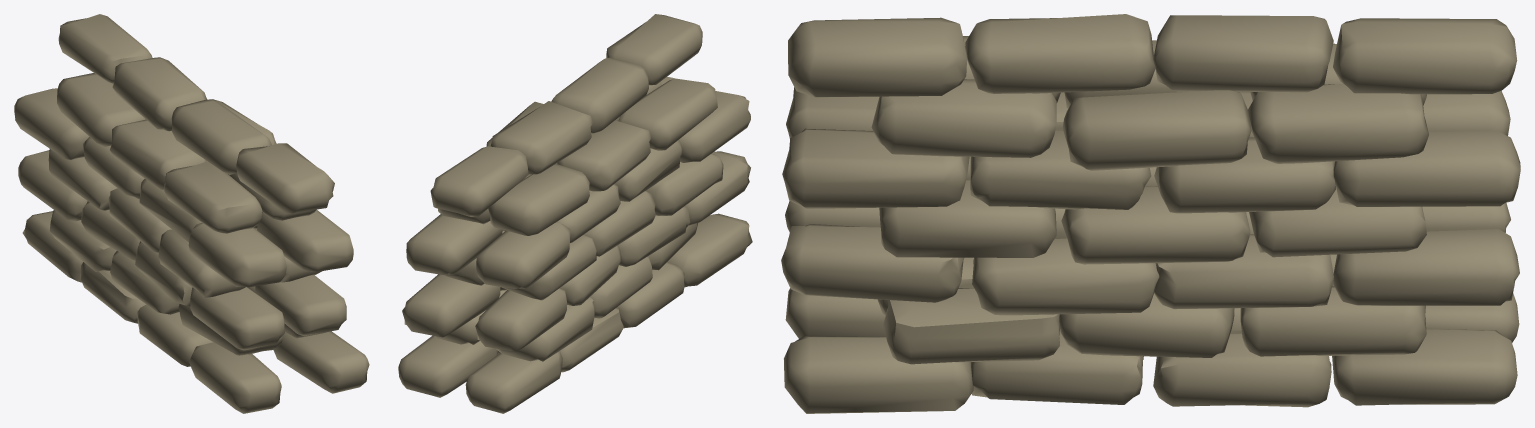
Rendered from ZR_SandbagWall_Tall.fbx.
3 views of the same model, side by side, from view 1: azimuth 30°, elevation 25°; view 2: azimuth 150°, elevation 25°; view 3: azimuth 270°, elevation 25° (orthographic). The views are drawn at different scales.
Parts seen in each view (by area): view 1: ZR_SandbagWall_Tall; view 2: ZR_SandbagWall_Tall; view 3: ZR_SandbagWall_Tall.
Part boxes in pixels (bbox=[...]): ZR_SandbagWall_Tall: bbox=[14, 14, 369, 413]; ZR_SandbagWall_Tall: bbox=[398, 14, 752, 413]; ZR_SandbagWall_Tall: bbox=[781, 14, 1520, 413].
Size of the model in its own units: 0.8626 by 1.29 by 2.51.
